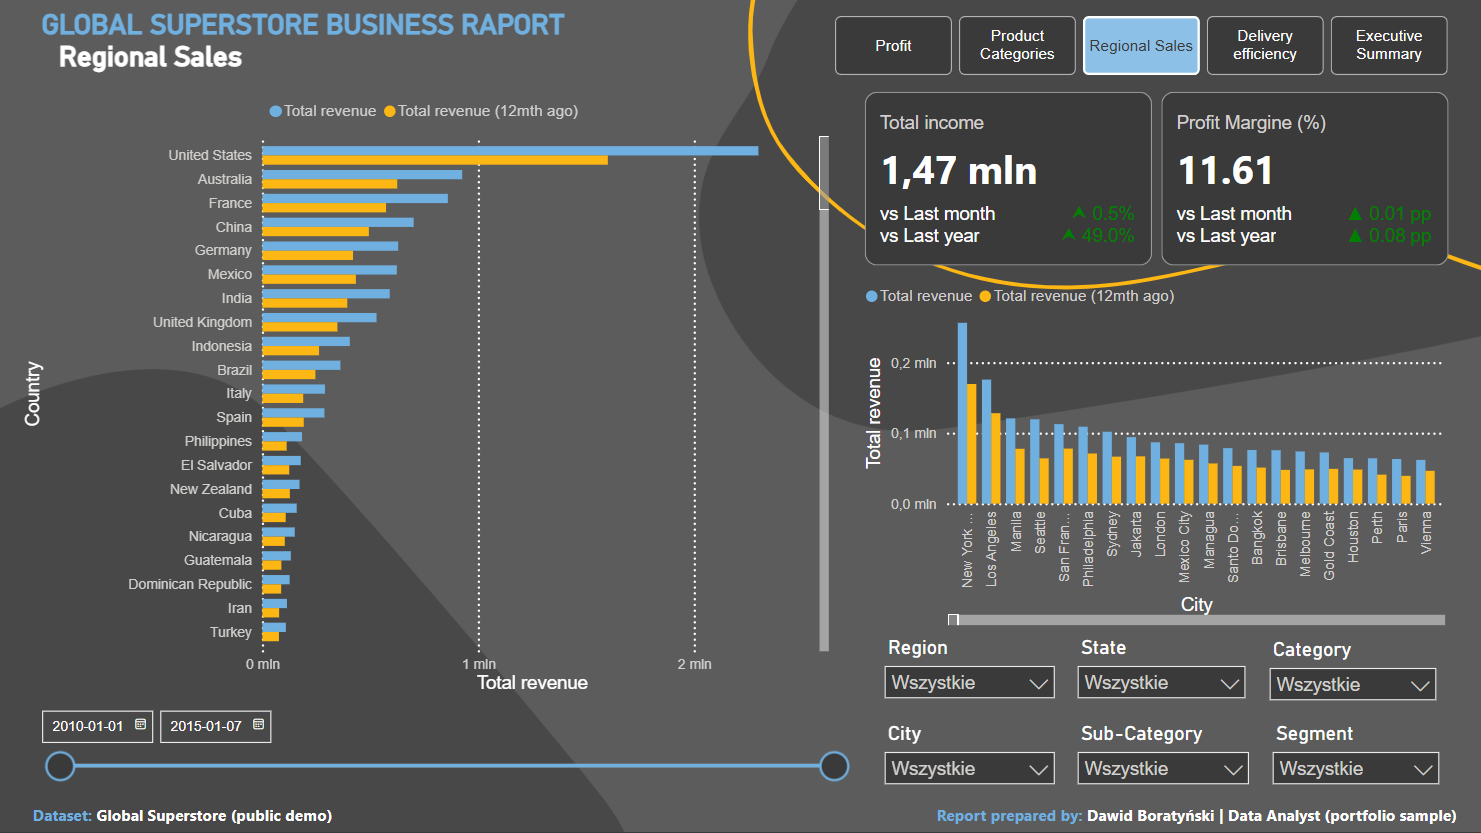

What the dashboard file says about the page in this screenshot:
{"tool":"powerbi","page":{"name":"Location","canvas":[1280,720],"ordinal":2},"visuals":[{"type":"clusteredColumnChart","fields":{"Category":["Sheet1.City"],"Y":["Sum(Sheet1.Sales)"]},"box":[753.4,202.5,500.6,349.7],"z":0},{"type":"slicer","fields":{"Values":["Sheet1.Ship Date"]},"box":[24.5,613.5,717.8,77.3],"z":1000},{"type":"cardVisual","fields":{"Data":["Sum(Sheet1.Quantity)","Sum(Sheet1.Profit)"]},"box":[753.4,73.6,500.6,128.8],"z":2000},{"type":"textbox","box":[24.5,19.6,693.3,52.8],"z":3000},{"type":"clusteredBarChart","fields":{"Category":["Sheet1.Country"],"Y":["Sum(Sheet1.Sales)"]},"box":[16,73.6,726.4,539.9],"z":4000},{"type":"slicer","title":"Country","fields":{"Values":["Sheet1.Sub-Category"]},"box":[927.6,552.2,174.2,73.6],"z":5000},{"type":"slicer","title":"Category","fields":{"Values":["Sheet1.Category"]},"box":[1101.8,558.3,166.9,128.8],"z":6000},{"type":"slicer","title":"Country","fields":{"Values":["Sheet1.Segment"]},"box":[927.6,625.8,174.2,73.6],"z":7000},{"type":"slicer","title":"Country","fields":{"Values":["Sheet1.Region"]},"box":[753.4,552.2,174.2,73.6],"z":8000},{"type":"slicer","title":"Country","fields":{"Values":["Sheet1.State"]},"box":[753.4,625.8,174.2,73.6],"z":9000},{"type":"pageNavigator","box":[719,13.5,533.7,51.5],"z":9001}]}

Visuals, with their boxes in screenshot pixels (x1, y1, x2, y2), scaled from the page's 1280x720 canvas onto the 1481x833 screenshot:
clusteredColumnChart - Sheet1.City x Sum(Sheet1.Sales): (872, 234, 1451, 639)
slicer - Sheet1.Ship Date: (28, 710, 859, 799)
cardVisual - Sum(Sheet1.Quantity) x Sum(Sheet1.Profit): (872, 85, 1451, 234)
textbox: (28, 23, 831, 84)
clusteredBarChart - Sheet1.Country x Sum(Sheet1.Sales): (19, 85, 859, 710)
"Country" slicer: (1073, 639, 1275, 724)
"Category" slicer: (1275, 646, 1468, 795)
"Country" slicer: (1073, 724, 1275, 809)
"Country" slicer: (872, 639, 1073, 724)
"Country" slicer: (872, 724, 1073, 809)
pageNavigator: (832, 16, 1449, 75)
